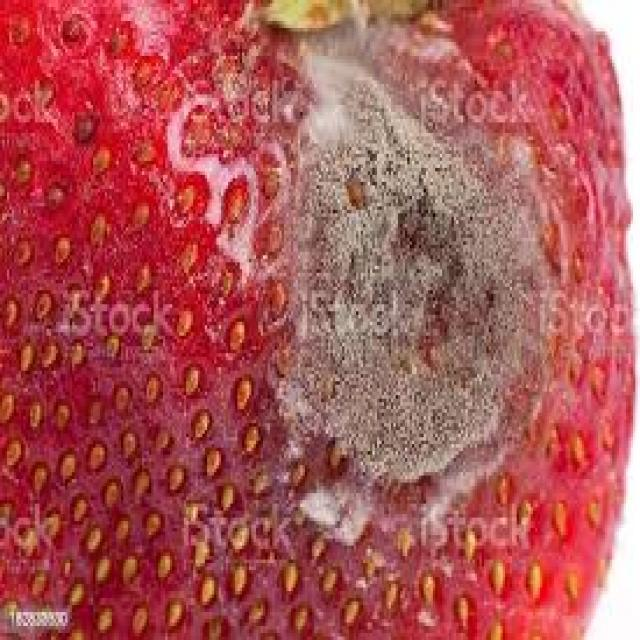Moho gris: (4, 6, 634, 638)
